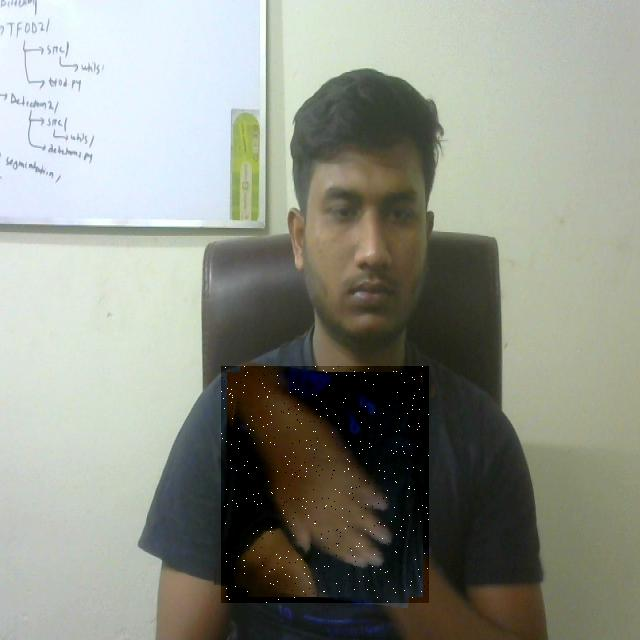Please: (221, 366, 429, 603)
